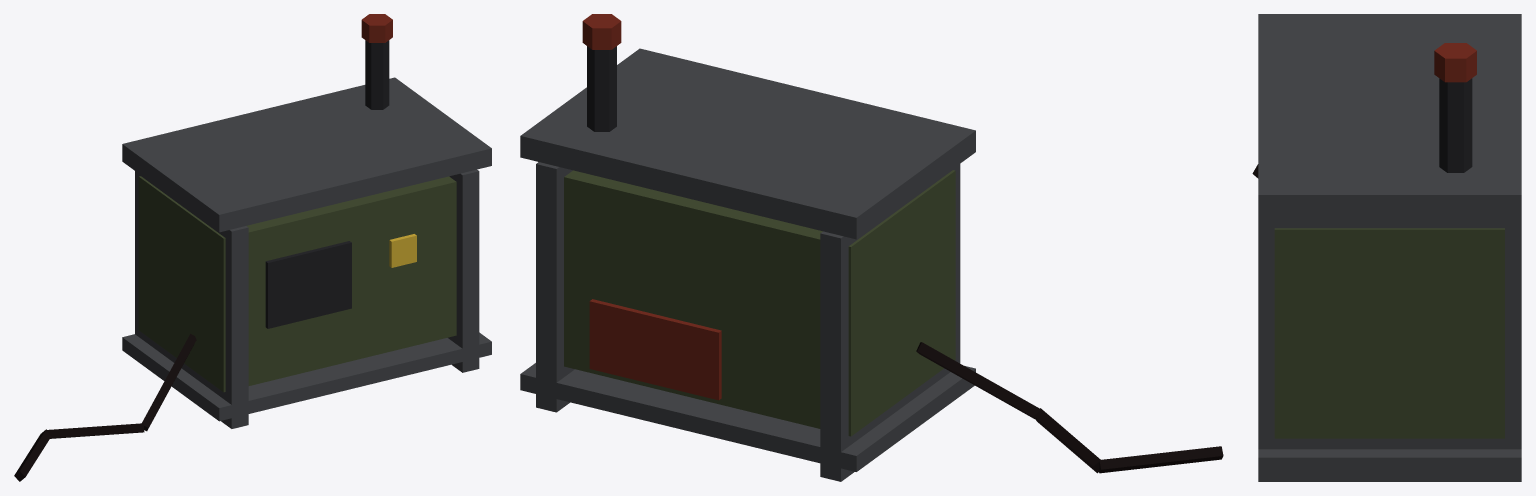
File: mod_dead_generator.glb
The picture shows the model from 3 angles, left to right: view 1: azimuth 30°, elevation 25°; view 2: azimuth 150°, elevation 25°; view 3: azimuth 270°, elevation 25°; orthographic projection. The views are drawn at different scales.
Parts seen in each view (by area): view 1: mod_dead_generator; view 2: mod_dead_generator; view 3: mod_dead_generator.
Boxes of the visible parts, x1,y1,x2,y2 form: mod_dead_generator: (14, 14, 491, 481); mod_dead_generator: (520, 14, 1223, 481); mod_dead_generator: (1252, 14, 1521, 481).
Bounding box in the file's own units: 2.27 × 1.38 × 0.8175.
